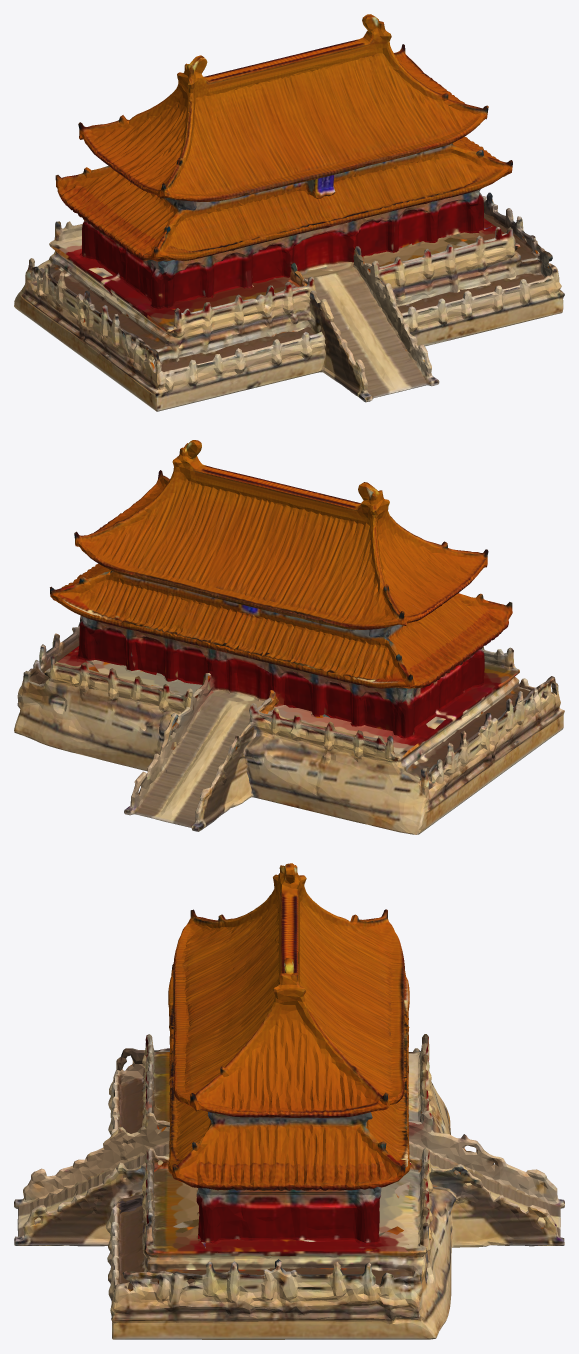
File: image3d-1783218572641-29gqe1h25.glb
3 renders of one model, top to bottom at view 1: azimuth 30°, elevation 25°; view 2: azimuth 150°, elevation 25°; view 3: azimuth 270°, elevation 25°, orthographic. The views are drawn at different scales.
Visible parts, largest first — view 1: temp_mesh.ply; view 2: temp_mesh.ply; view 3: temp_mesh.ply.
Part boxes in pixels (<box>): temp_mesh.ply: <box>14,14,564,411</box>; temp_mesh.ply: <box>14,440,564,834</box>; temp_mesh.ply: <box>14,863,564,1339</box>.
Bounding box in the file's own units: 1.97 × 1.24 × 1.97.
Materials: 1 (1 with a texture image).
